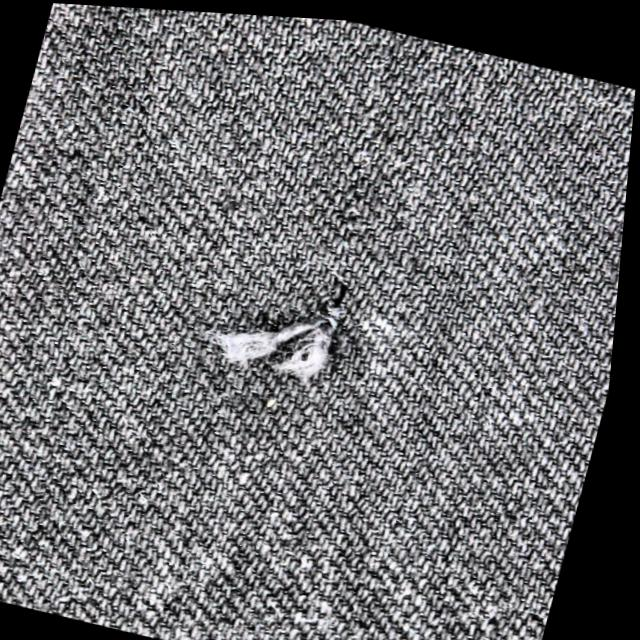Hole: (156, 245, 404, 438)
